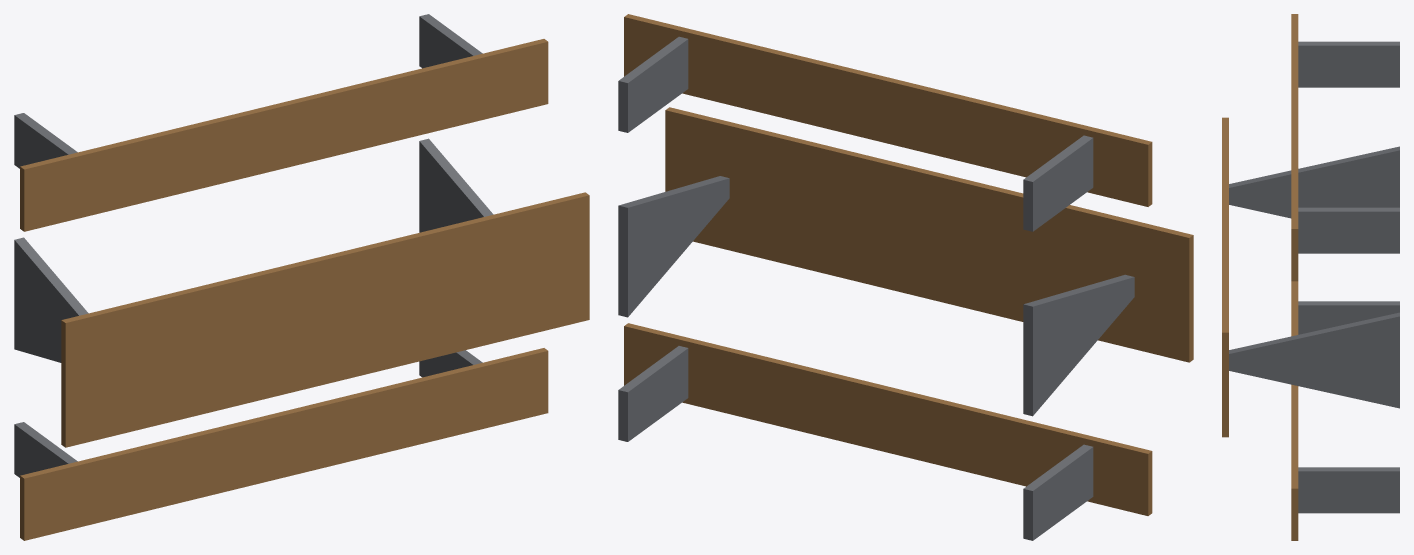
Rendered from Bierzeltgarnitur.obj.
3 renders of one model, left to right at view 1: azimuth 30°, elevation 25°; view 2: azimuth 150°, elevation 25°; view 3: azimuth 270°, elevation 25°, orthographic. The views are drawn at different scales.
Parts seen in each view (by area): view 1: Bank, Tischplatte, Tischbein, Bankbein; view 2: Bank, Tischplatte, Bankbein, Tischbein; view 3: Tischbein, Bankbein, Bank, Tischplatte.
Part boxes in pixels (box(x1,y1,x2,y2)): Bank: box(20, 39, 548, 540); Tischplatte: box(61, 192, 589, 447); Tischbein: box(14, 138, 493, 362); Bankbein: box(14, 14, 482, 477); Bank: box(624, 14, 1152, 515); Tischplatte: box(665, 107, 1193, 362); Bankbein: box(618, 36, 1093, 540); Tischbein: box(618, 176, 1134, 416); Tischbein: box(1229, 146, 1399, 408); Bankbein: box(1298, 41, 1399, 513); Bank: box(1291, 14, 1298, 540); Tischplatte: box(1222, 117, 1228, 437).
Bounding box in the file's own units: 2.2 × 1.49 × 0.77.
